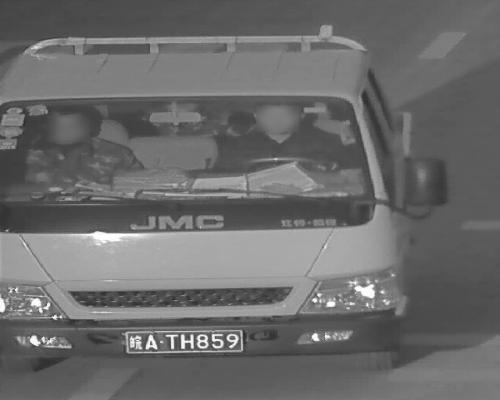Carplate: (116, 326, 251, 358)
